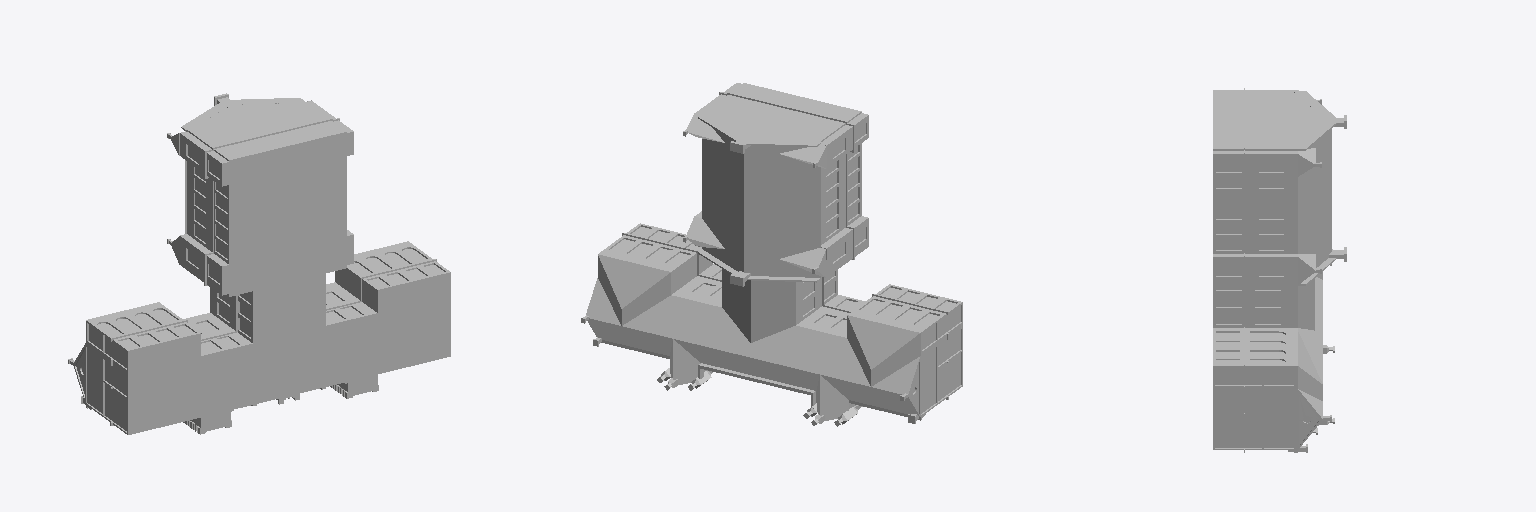
File: Samochodówka_cz2.obj
3 views of the same model, side by side, from view 1: azimuth 30°, elevation 25°; view 2: azimuth 150°, elevation 25°; view 3: azimuth 270°, elevation 25° (orthographic).
Visible parts, largest first — view 1: samochodowka_cz2; view 2: samochodowka_cz2; view 3: samochodowka_cz2.
Part boxes in pixels (bbox=[...]): samochodowka_cz2: bbox=[68, 93, 450, 434]; samochodowka_cz2: bbox=[581, 83, 962, 426]; samochodowka_cz2: bbox=[1213, 88, 1346, 452].
Bounding box in the file's own units: 0.0399 × 0.0321 × 0.0142.